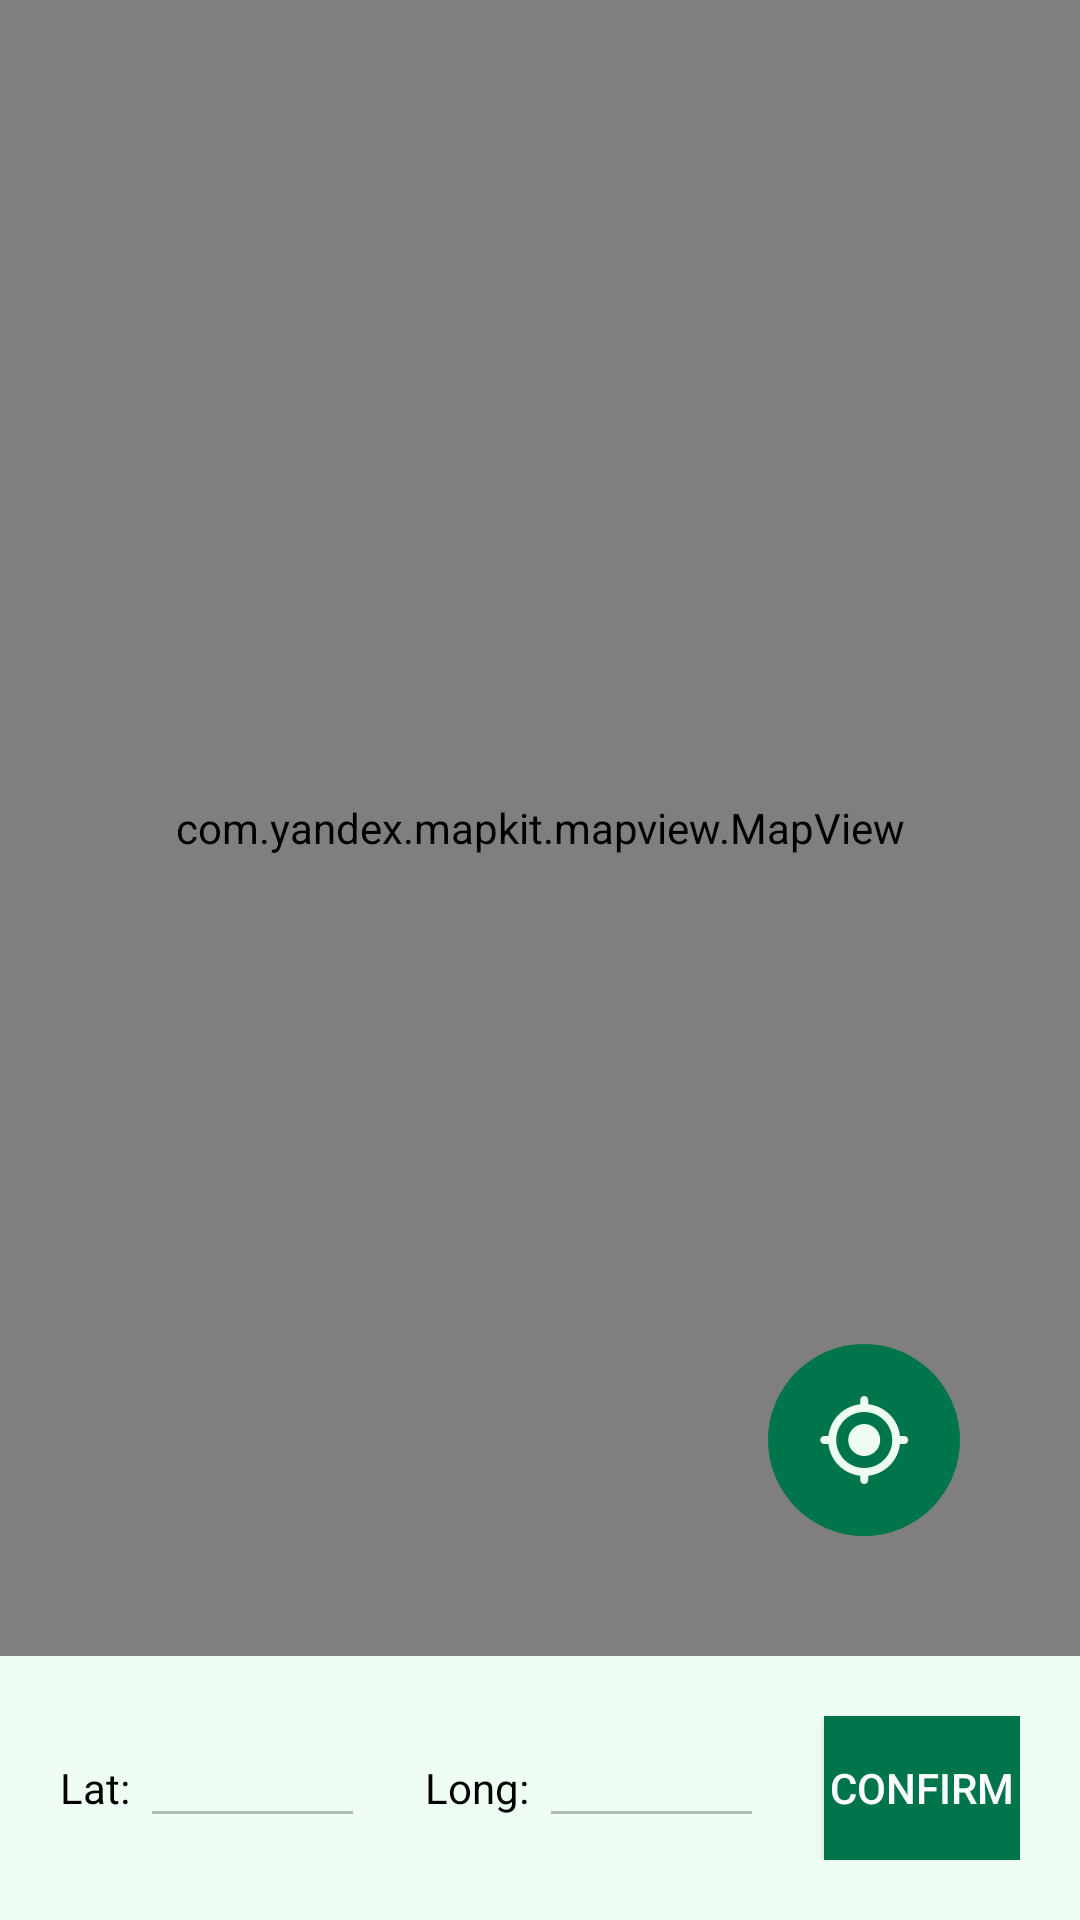

Screen size 1080 x 1920. Icon name, then its center in pixels as (x,y):
select adr: (864,1440)
